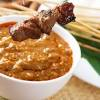sate: (7, 1, 78, 45)
